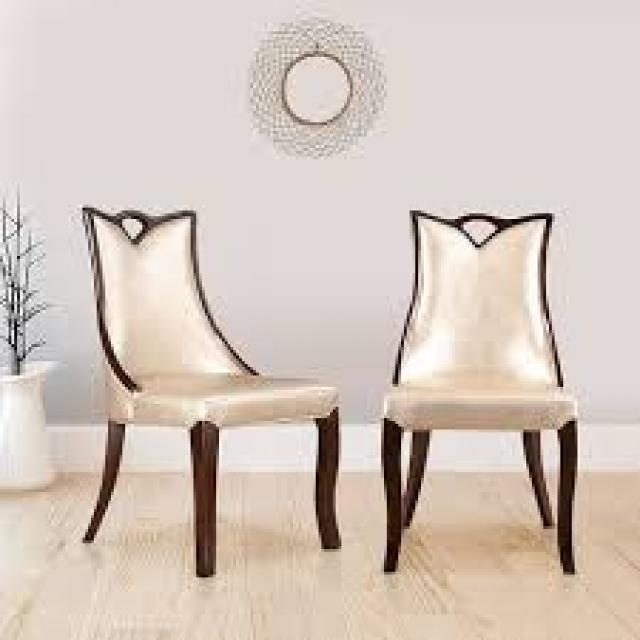chair: (78, 204, 343, 578), (380, 203, 576, 572)
